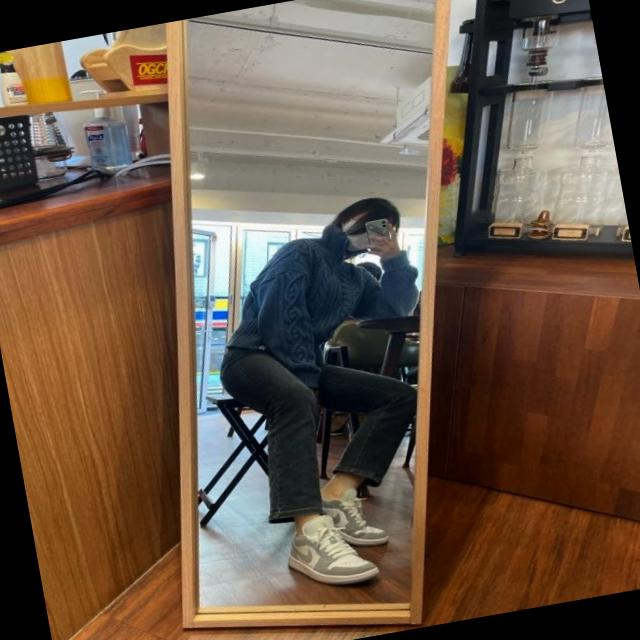cardigan: (210, 206, 430, 382)
denimpants: (214, 312, 438, 530)
